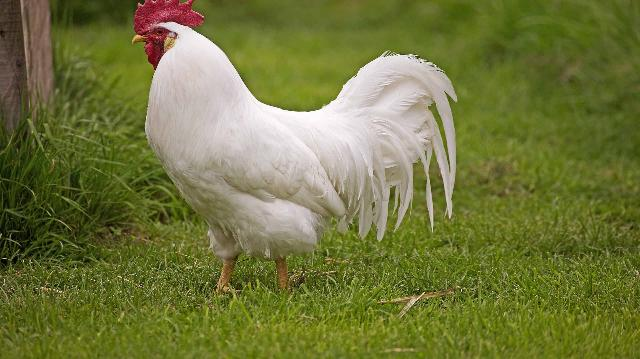Chicken: (131, 0, 458, 294)
